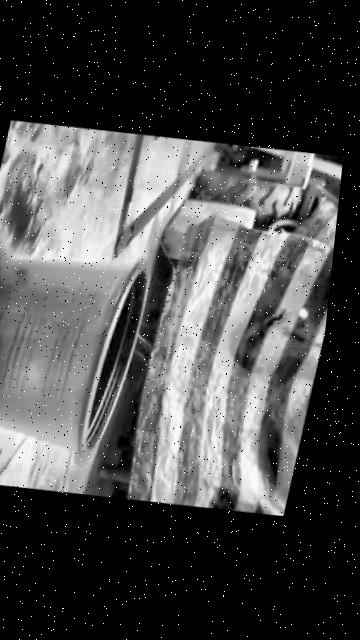pot: (0, 238, 157, 465)
